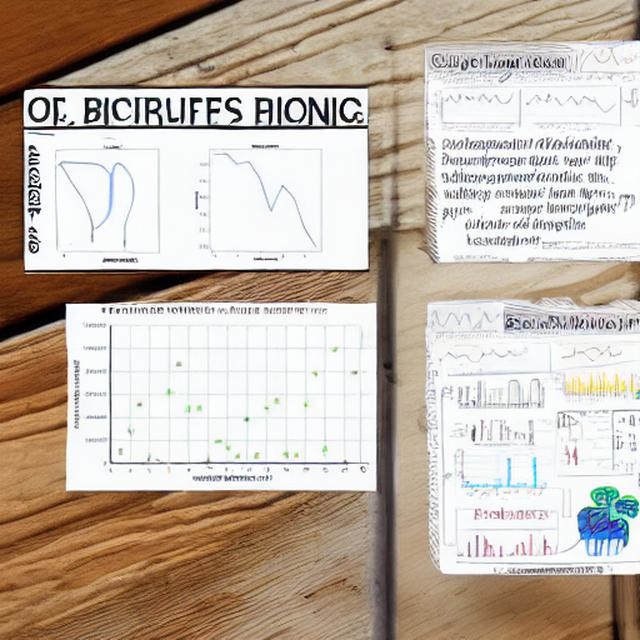Graph: (69, 305, 358, 486), (166, 133, 360, 266), (451, 441, 550, 504), (433, 84, 517, 132), (427, 303, 501, 346), (570, 42, 640, 85), (551, 364, 612, 408), (449, 528, 506, 561)
